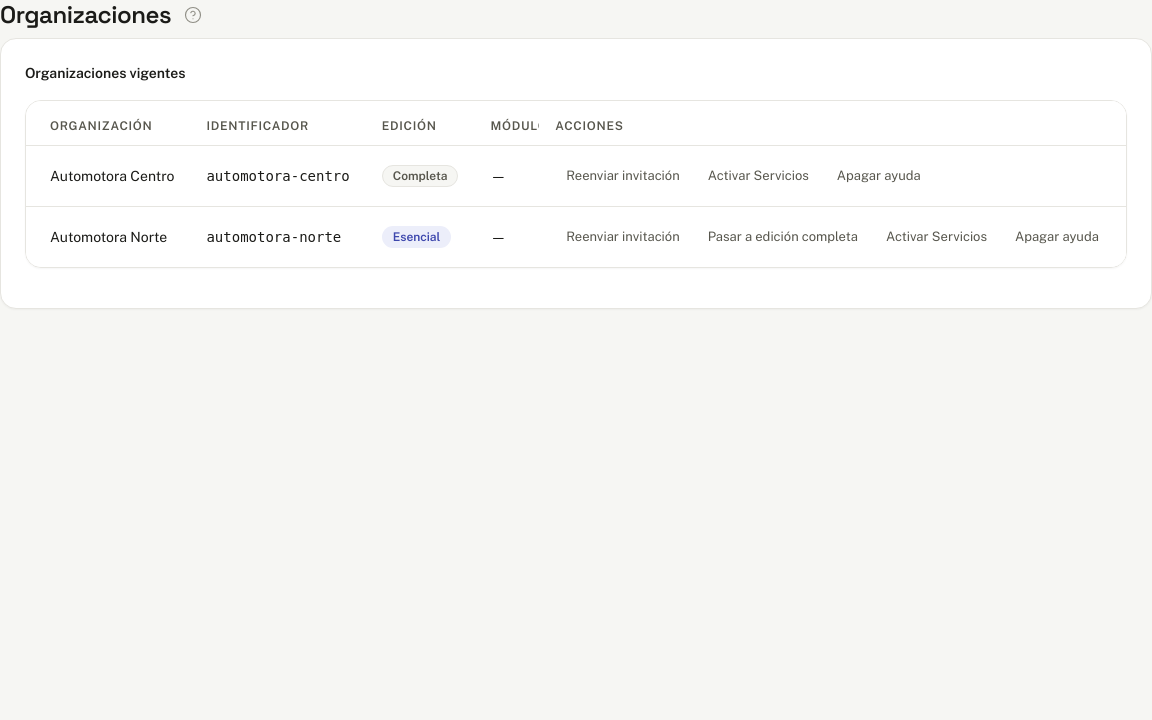
Test: OrganizationsPage › reenviar la invitación: pide confirmación, manda el POST y dice a qué email salió
This screenshot has width=1152, height=720.
Click the button "Reenviar invitación" in the row of "Automotora Centro": (623, 176) [555, 160, 691, 192]
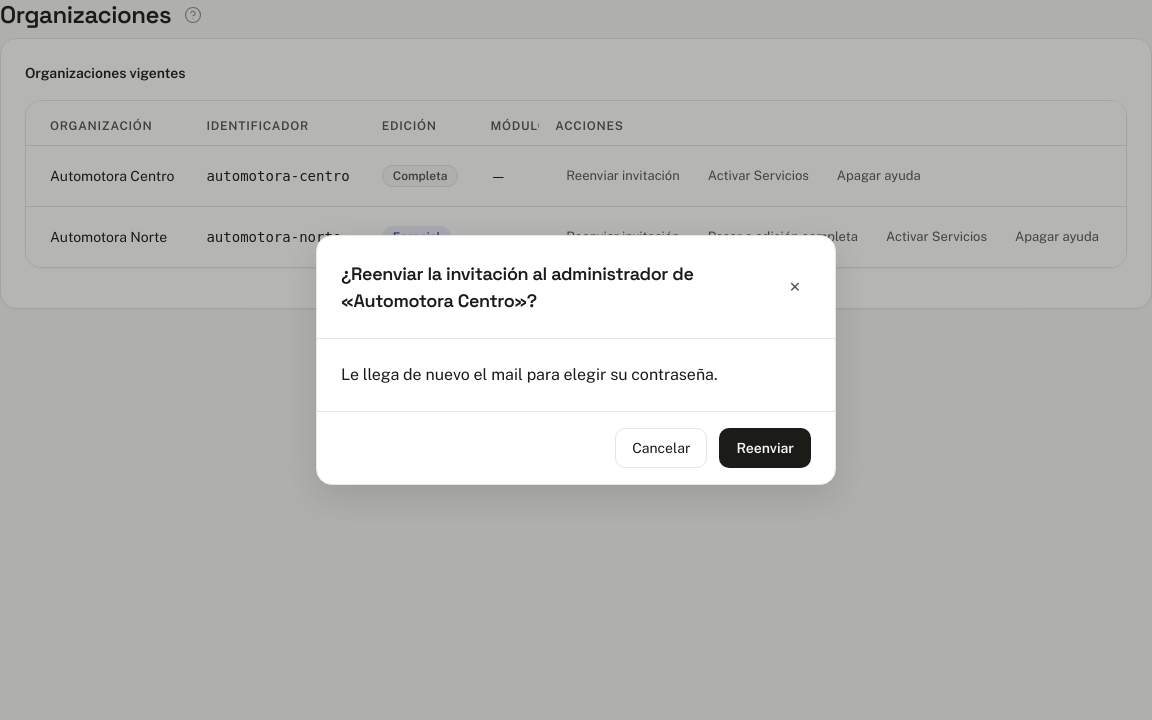
Now the text "Le llega de nuevo el mail para elegir su contraseña." is shown, box [341, 365, 718, 384]
Click the button "Reenviar": (765, 448) [719, 428, 811, 468]
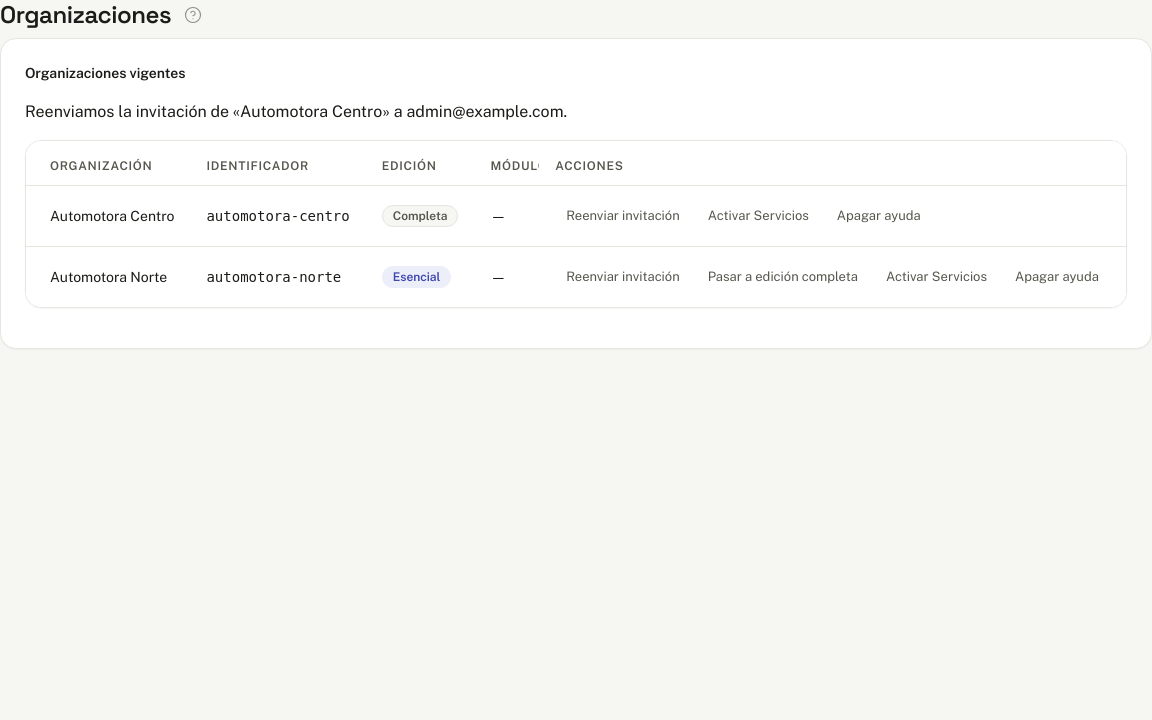
Now the message reads "Reenviamos la invitación de «Automotora Centro» a admin@example.com.", box [25, 102, 567, 121]
